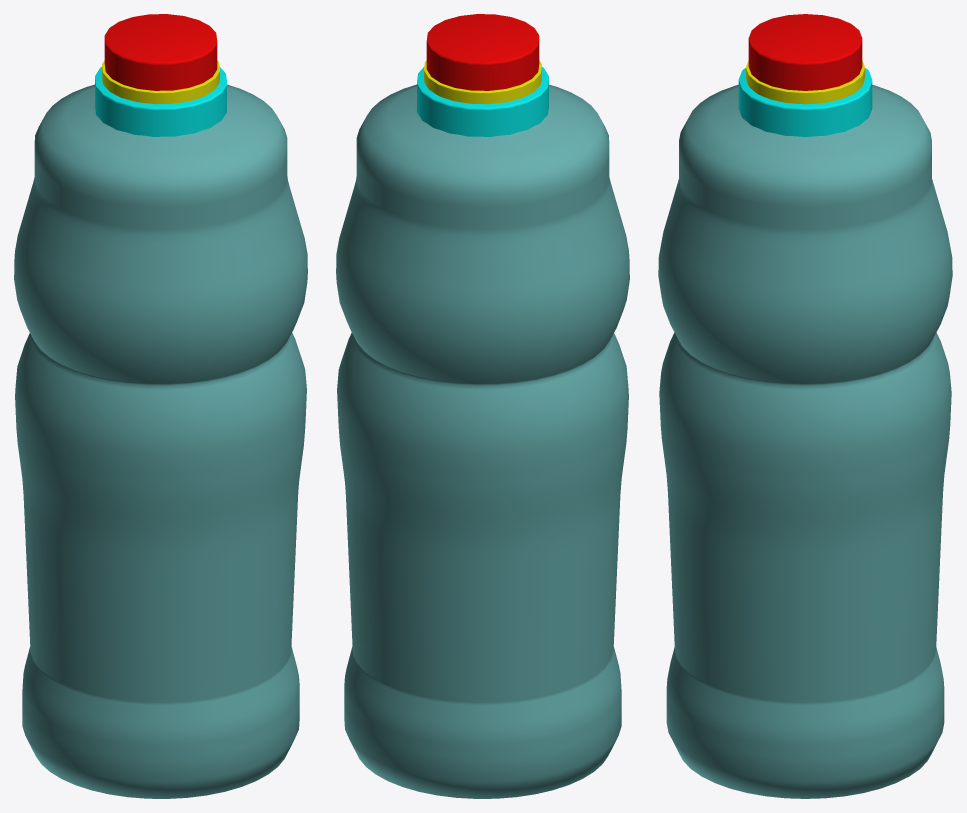
The model's file is PLASTIC.fbx.
3 views of the same model, side by side, from view 1: azimuth 30°, elevation 25°; view 2: azimuth 150°, elevation 25°; view 3: azimuth 270°, elevation 25° (orthographic).
Visible parts, largest first — view 1: pCylinder1; view 2: pCylinder1; view 3: pCylinder1.
Boxes of the visible parts, x1=… form: pCylinder1: x1=14, y1=14, x2=307, y2=798; pCylinder1: x1=336, y1=14, x2=629, y2=798; pCylinder1: x1=658, y1=14, x2=952, y2=798.
Size of the model in its own units: 0.6011 by 1.61 by 0.6011.
